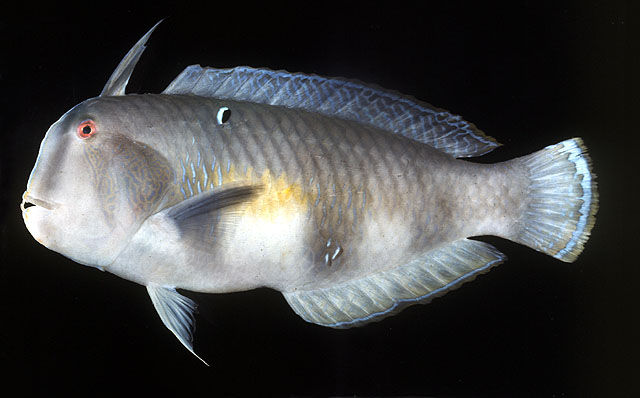fish: (20, 19, 600, 366)
